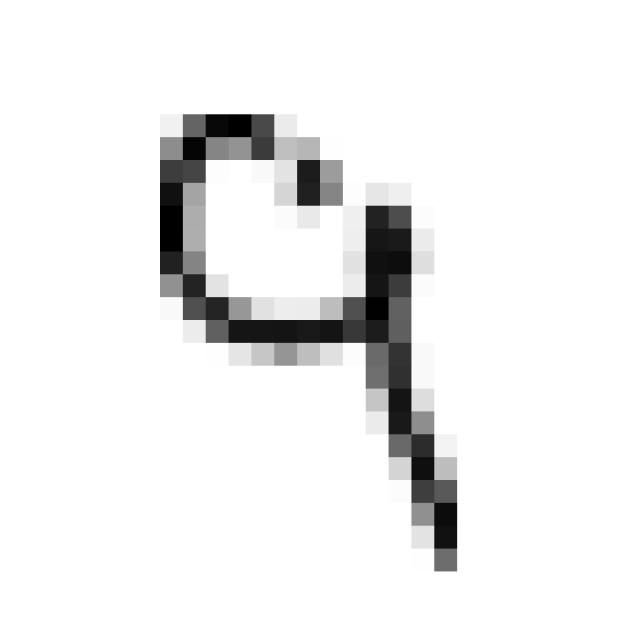9 -nine-: (123, 89, 490, 599)
